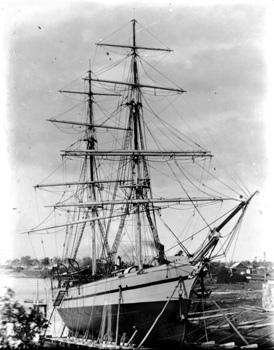Ship: (26, 20, 261, 333)
